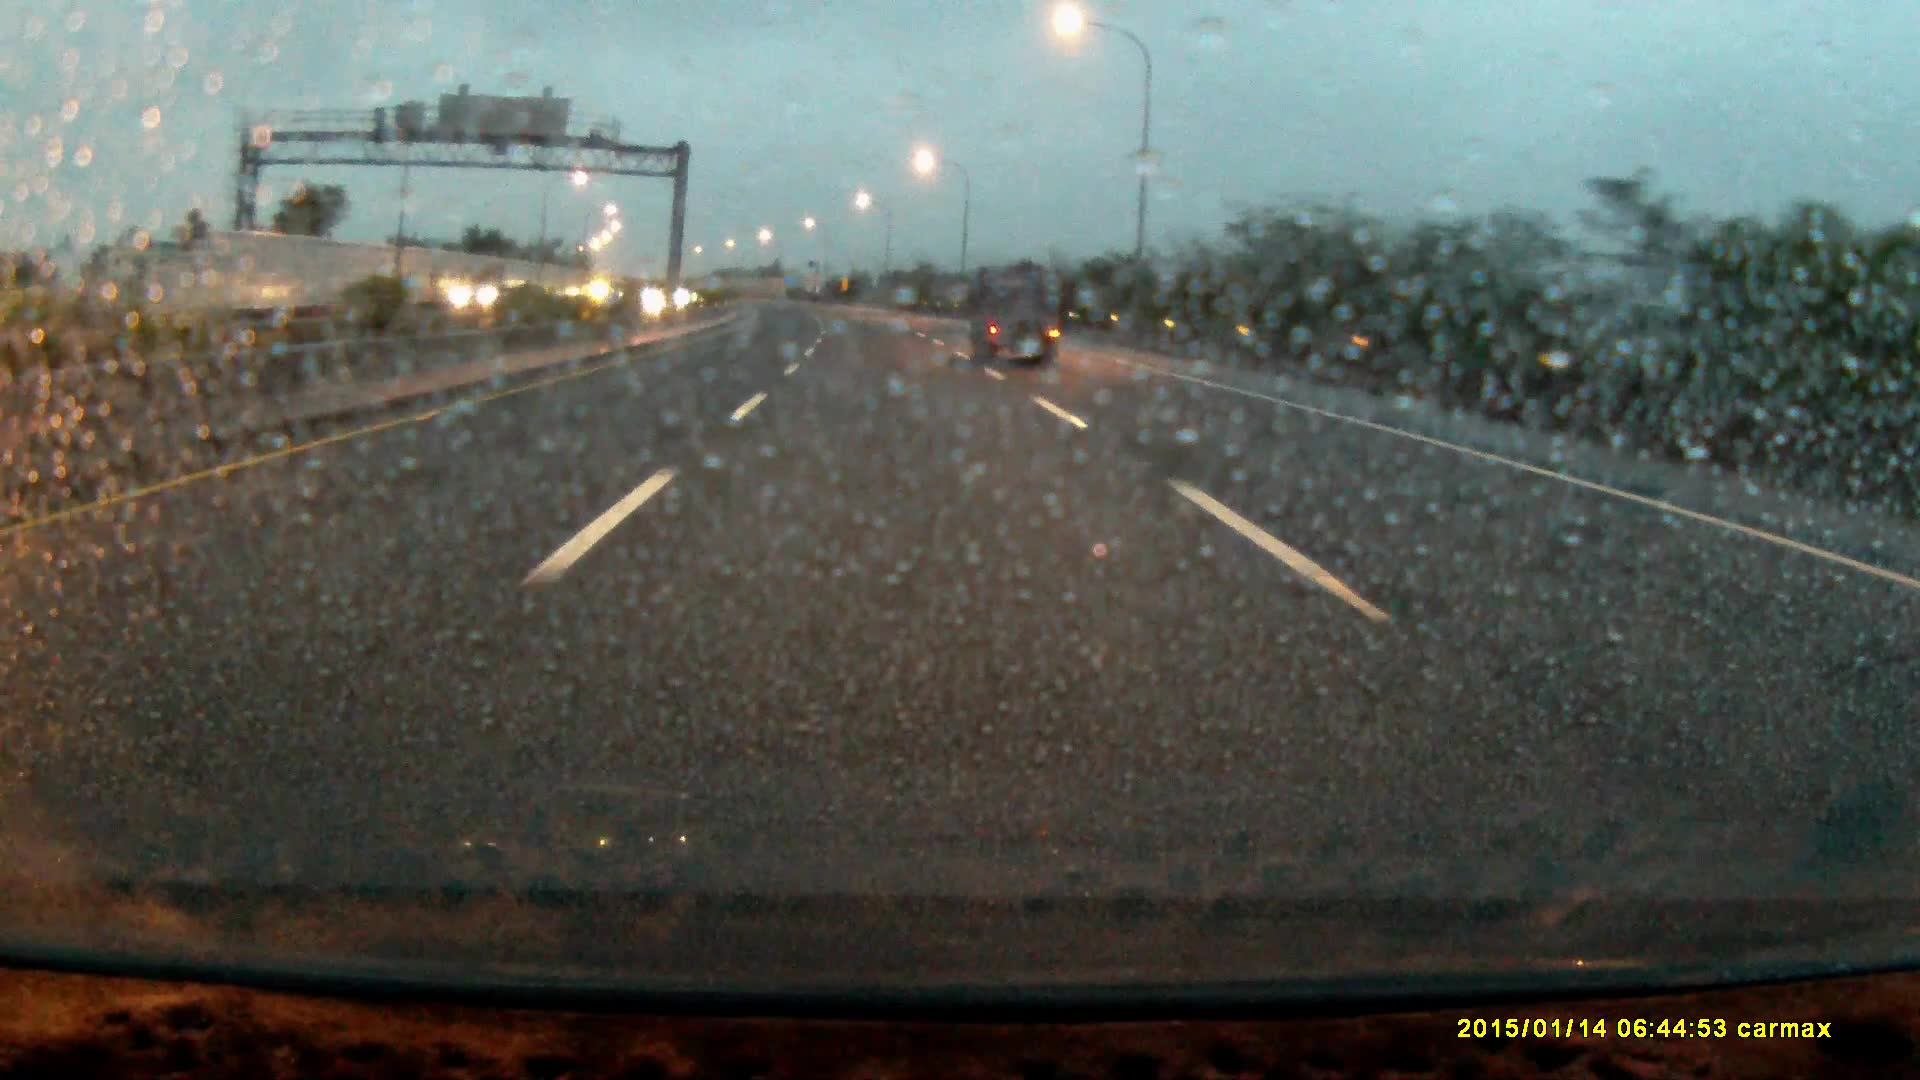vehicle: (975, 269, 1060, 364), (454, 260, 543, 316)
